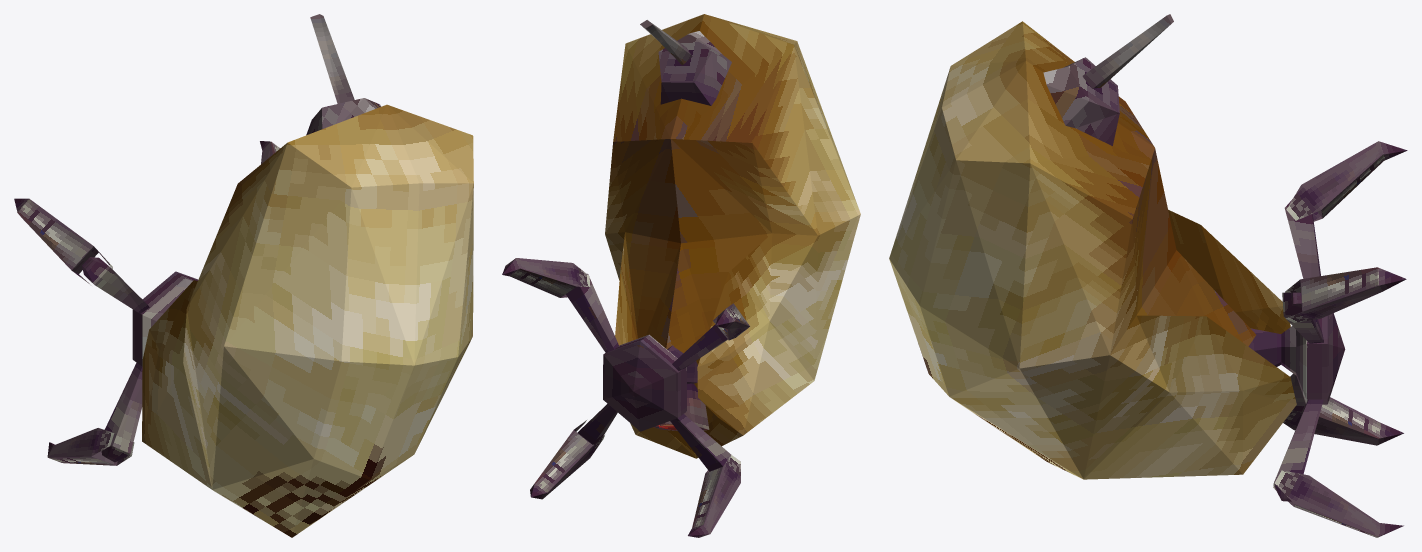
Rendered from Kankrelat.obj.
3 renders of one model, left to right at view 1: azimuth 30°, elevation 25°; view 2: azimuth 150°, elevation 25°; view 3: azimuth 270°, elevation 25°, orthographic. The views are drawn at different scales.
Visible parts, largest first — view 1: Mesh_0105; view 2: Mesh_0105; view 3: Mesh_0105.
Part boxes in pixels (x1,y1,x2,y2): Mesh_0105: (14,14,473,537); Mesh_0105: (502,14,860,537); Mesh_0105: (889,14,1407,537).
Bounding box in the file's own units: 91.12 × 144 × 133.
